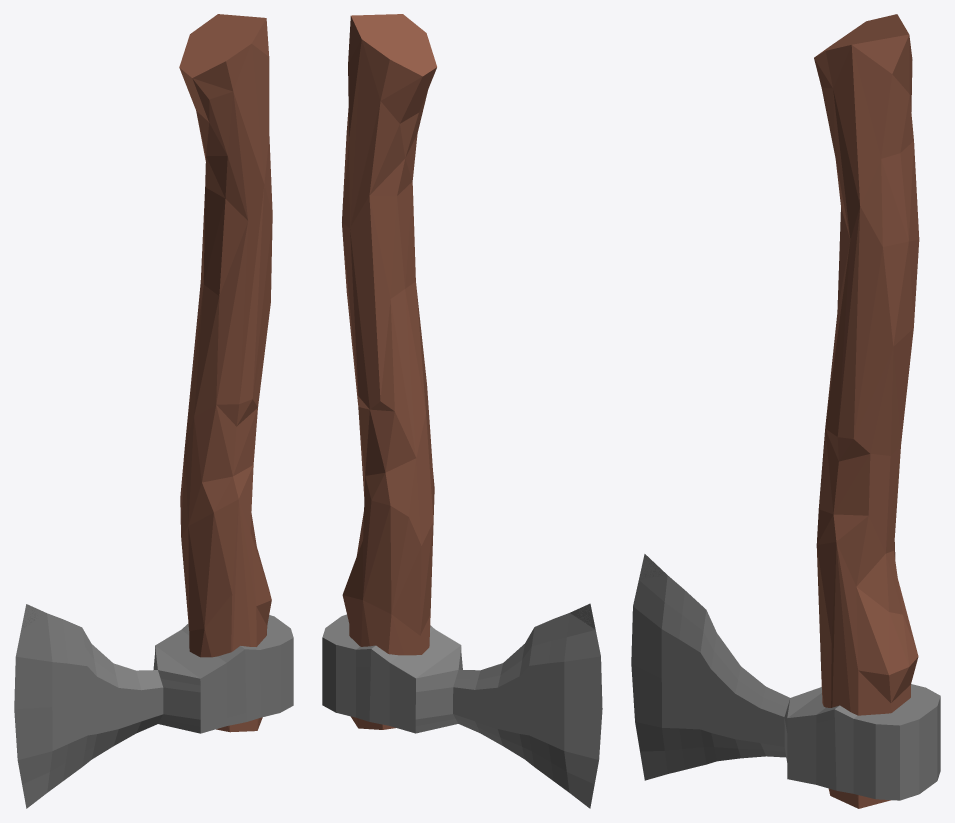
The model's file is axe4.fbx.
The picture shows the model from 3 angles, left to right: view 1: azimuth 30°, elevation 25°; view 2: azimuth 150°, elevation 25°; view 3: azimuth 330°, elevation 25°; orthographic projection. The views are drawn at different scales.
Visible parts, largest first — view 1: axe4; view 2: axe4; view 3: axe4.
Boxes of the visible parts, box(x1,y1,x2,y2) form: axe4: box(14, 14, 293, 808); axe4: box(322, 14, 602, 808); axe4: box(631, 14, 940, 808).
Bounding box in the file's own units: 44.78 × 117 × 13.61.
